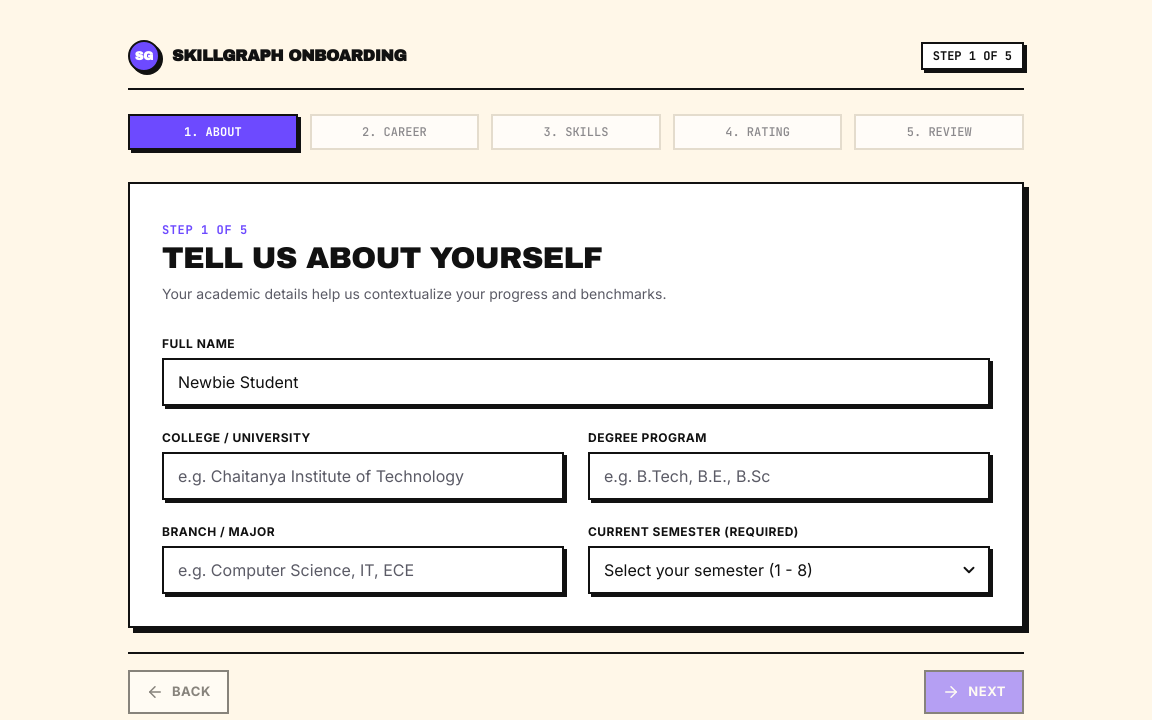
OnboardingPage Wizard › Next is disabled on About until a semester is chosen
Check: the heading "Tell Us About Yourself" is shown, box [162,242,602,274]
Check: the button "NEXT" is disabled, box [924,670,1024,714]
Note: Select a semester
Select "Semester 3" in the dropdown labelled "Current Semester (Required)". click: (789, 570)
box: [588,546,990,594]
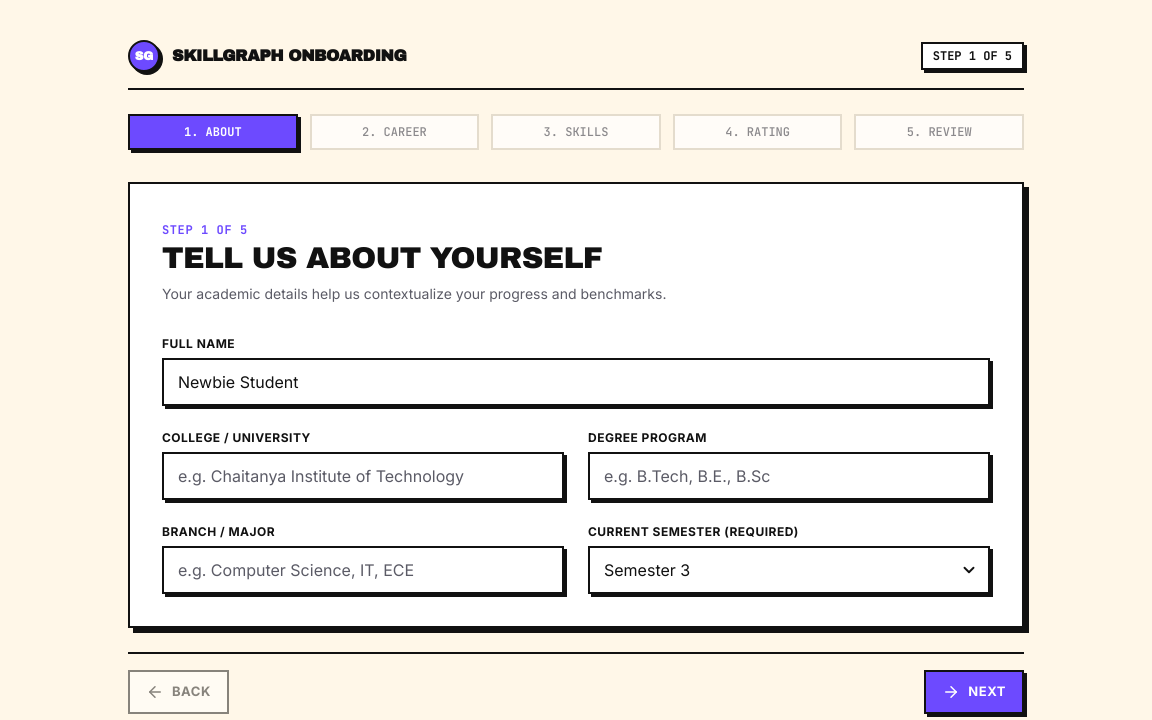
Check: the button "NEXT" is enabled, box [924,670,1024,714]
